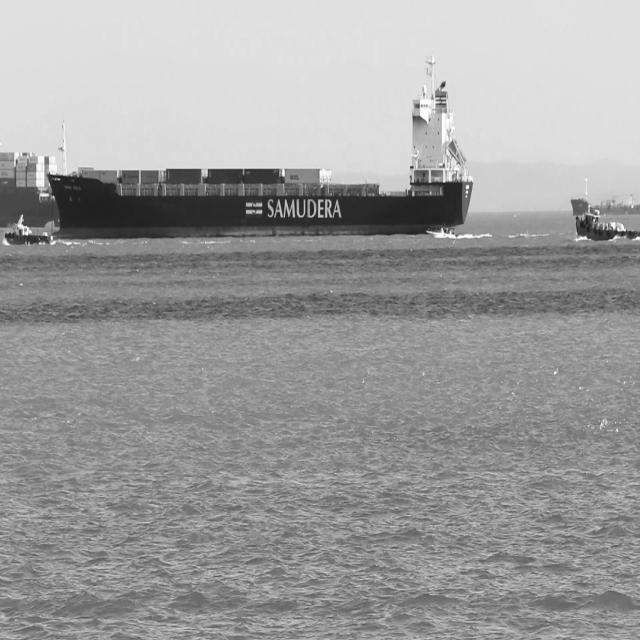ship: (49, 49, 476, 239), (0, 148, 59, 228), (570, 177, 640, 214), (575, 212, 640, 241), (4, 212, 53, 247), (427, 222, 458, 239)
